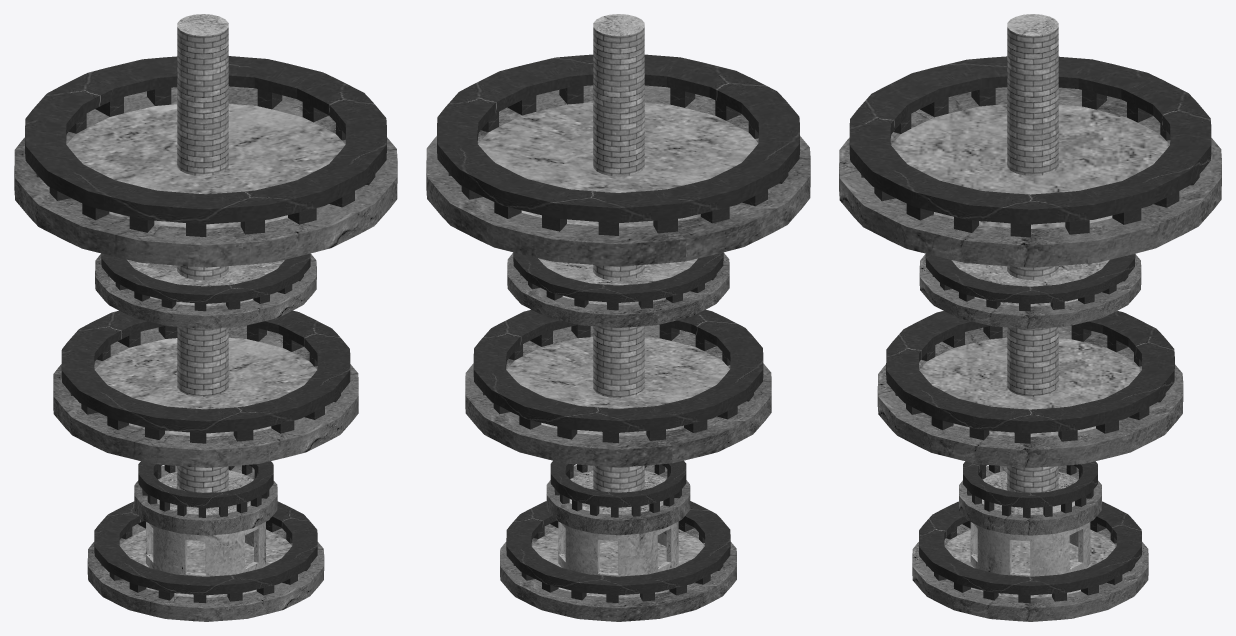
The model's file is tyuuou_tou_green_usami.fbx.
3 renders of one model, left to right at view 1: azimuth 30°, elevation 25°; view 2: azimuth 150°, elevation 25°; view 3: azimuth 270°, elevation 25°, orthographic.
Parts seen in each view (by area): view 1: Cylinder020; view 2: Cylinder020; view 3: Cylinder020.
Part boxes in pixels (x1=…): Cylinder020: x1=14, y1=14, x2=397, y2=621; Cylinder020: x1=426, y1=14, x2=810, y2=621; Cylinder020: x1=839, y1=14, x2=1221, y2=621.
Bounding box in the file's own units: 372 × 578 × 367.
1 material, 1 textured.
